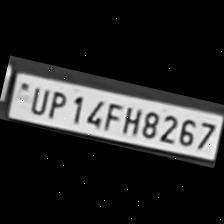1: (63, 90, 87, 124)
2: (156, 111, 180, 145)
4: (80, 94, 108, 130)
6: (172, 114, 198, 148)
7: (194, 118, 217, 151)
8: (137, 106, 162, 140)
F: (100, 100, 124, 132)
H: (118, 102, 144, 137)
P: (44, 88, 70, 122)
U: (25, 82, 51, 116)
